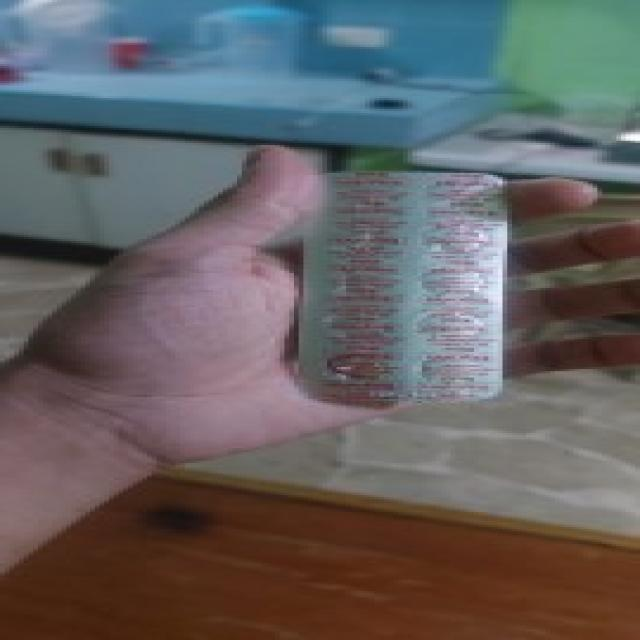Cacat: (298, 173, 502, 396)
